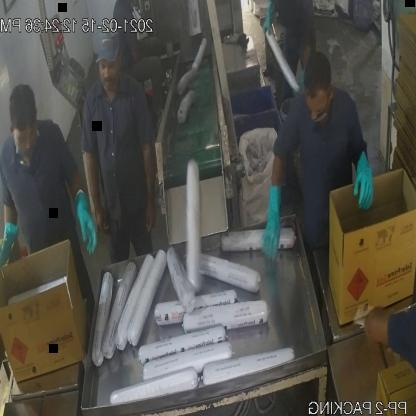glove: (252, 180, 292, 261), (349, 142, 379, 218), (74, 182, 99, 264), (0, 217, 18, 283)
no_glove: (85, 131, 111, 240), (365, 289, 403, 358), (140, 130, 160, 233)
